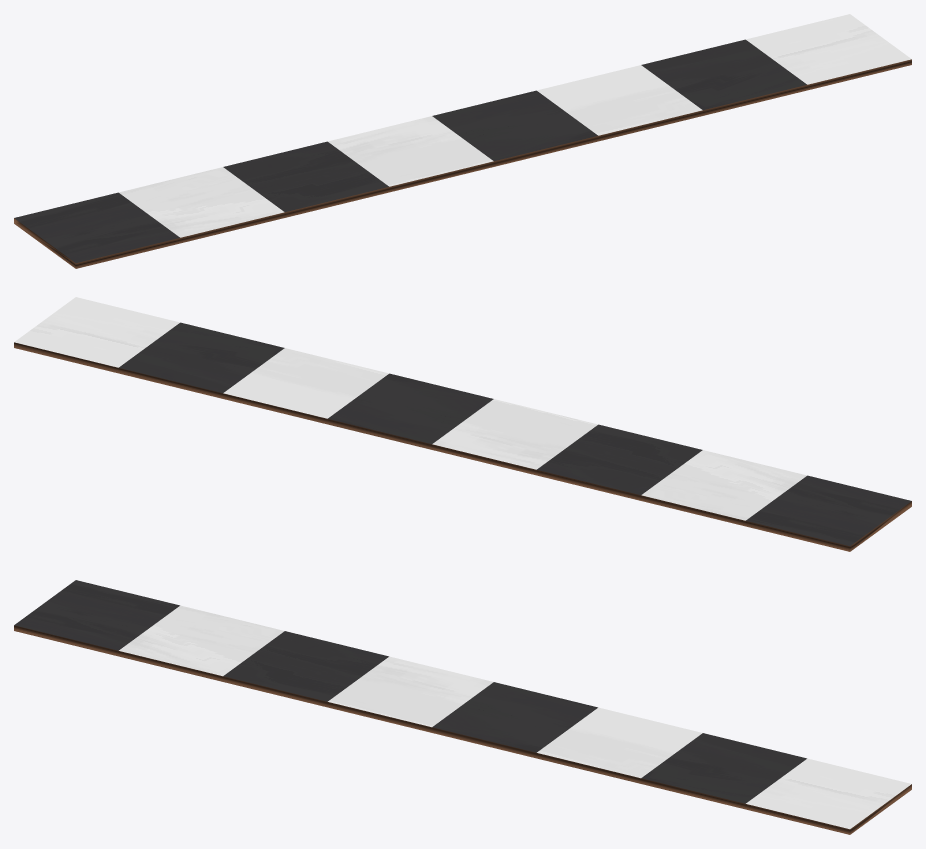
Rendered from Simple Finish line.fbx.
The picture shows the model from 3 angles, top to bottom: view 1: azimuth 30°, elevation 25°; view 2: azimuth 150°, elevation 25°; view 3: azimuth 330°, elevation 25°; orthographic projection.
Parts seen in each view (by area): view 1: polySurface100; view 2: polySurface100; view 3: polySurface100.
Boxes of the visible parts, x1,y1,x2,y2 form: polySurface100: (14, 14, 911, 268); polySurface100: (14, 297, 911, 551); polySurface100: (14, 580, 911, 834).
Bounding box in the file's own units: 60.14 × 0.3901 × 7.71.
